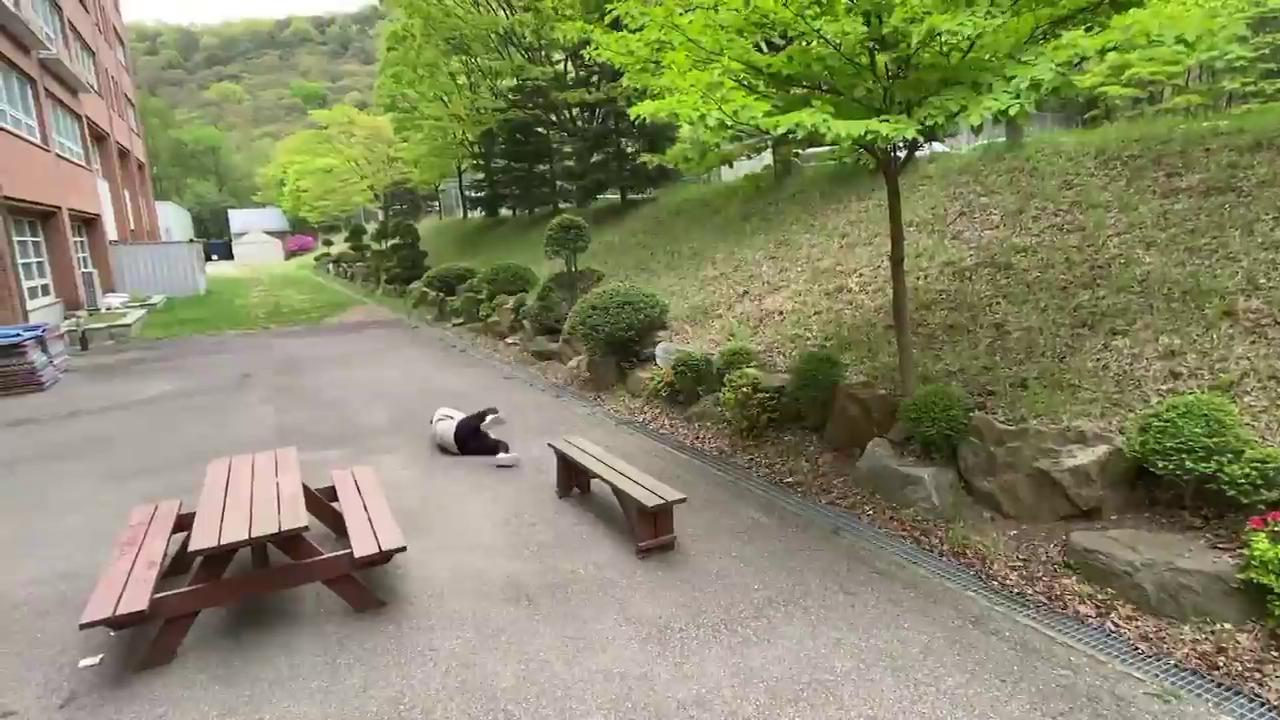faint: (420, 399, 527, 475)
